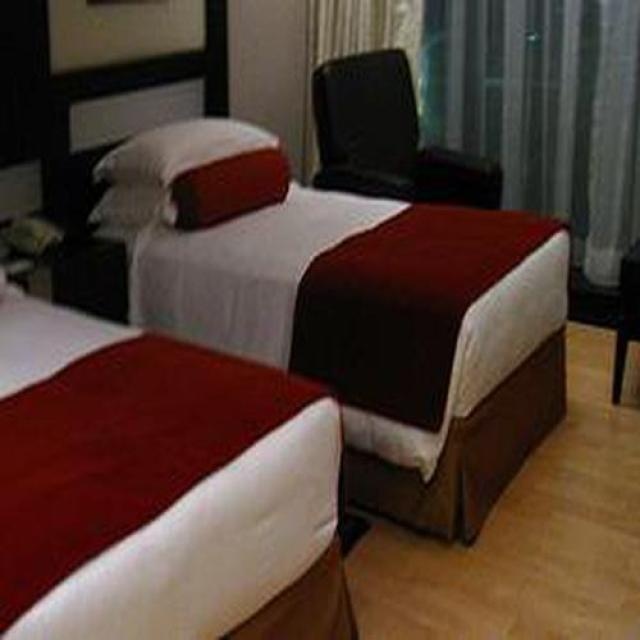bed: (46, 49, 571, 547)
